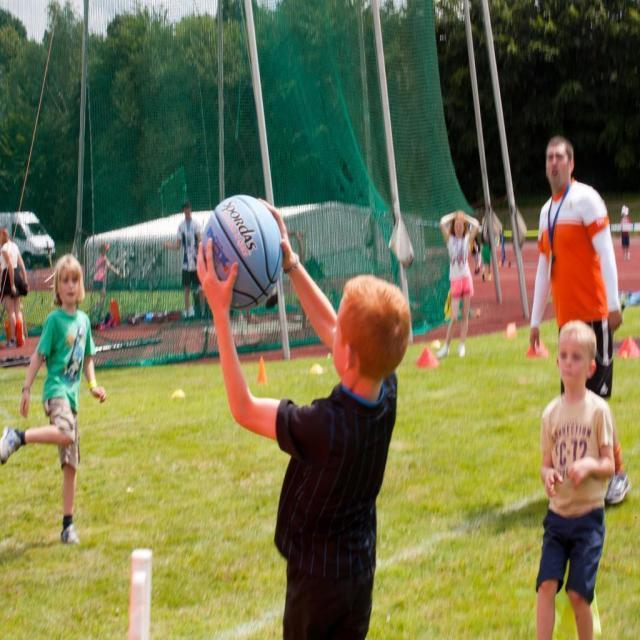ball: (201, 195, 286, 311)
